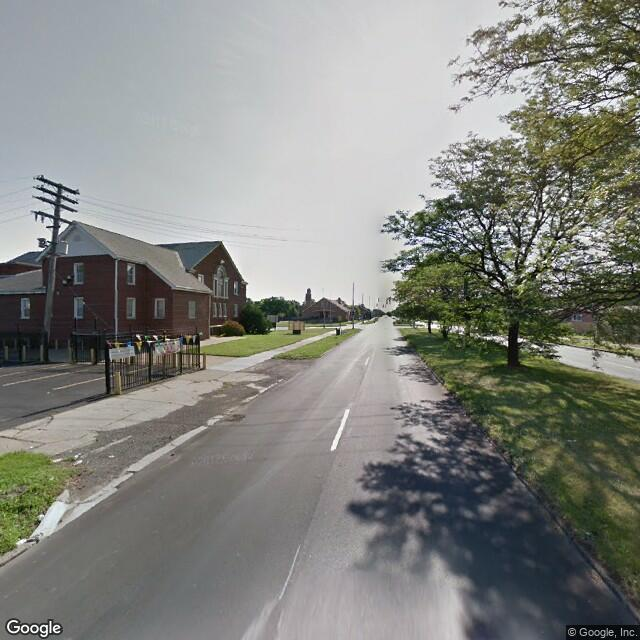litter: (31, 506, 48, 522), (69, 450, 84, 462)
